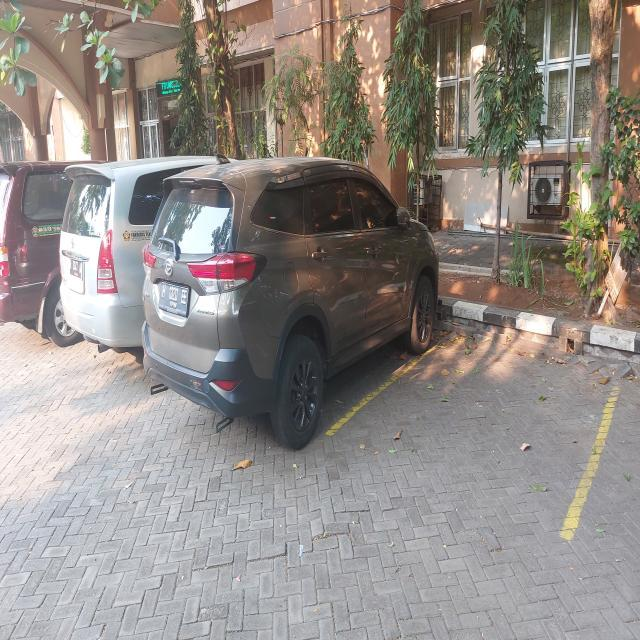Car: (140, 156, 462, 483), (54, 156, 202, 393)
Vacant: (329, 322, 625, 532)
